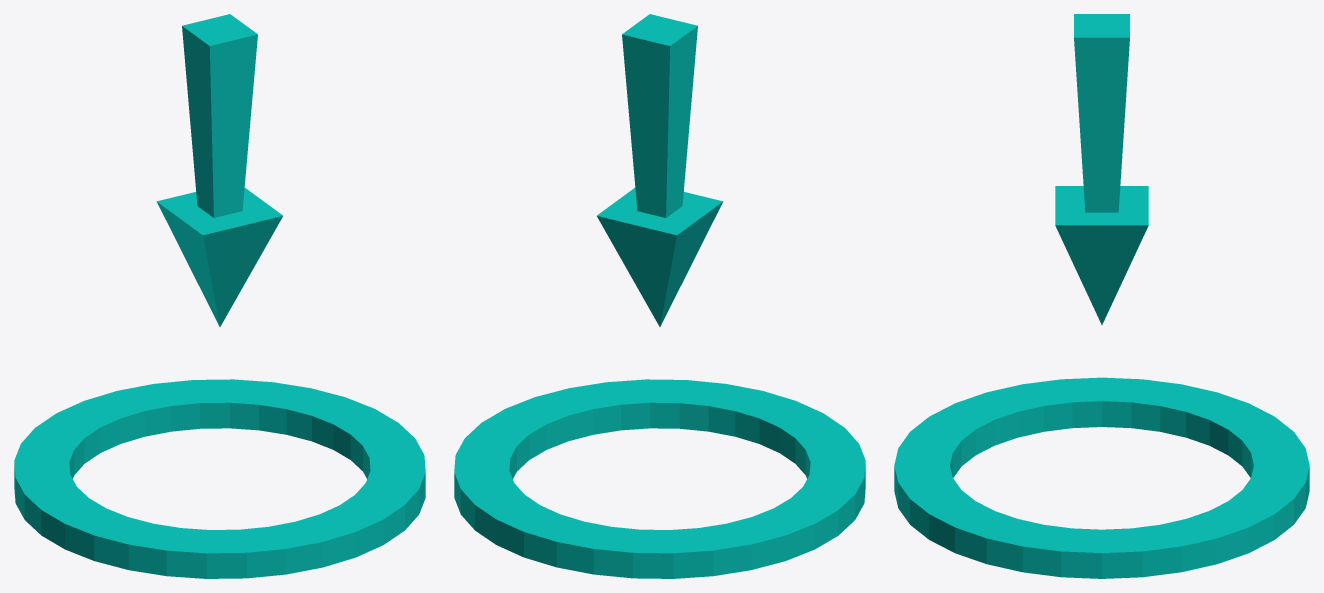
Rendered from teleport.obj.
3 views of the same model, side by side, from view 1: azimuth 30°, elevation 25°; view 2: azimuth 150°, elevation 25°; view 3: azimuth 270°, elevation 25° (orthographic).
Visible parts, largest first — view 1: Cone; view 2: Cone; view 3: Cone.
Part boxes in pixels (x1,y1,x2,y2): Cone: (14, 14, 425, 578); Cone: (454, 14, 865, 578); Cone: (894, 14, 1309, 578).
Bounding box in the file's own units: 0.352 × 0.4351 × 0.352.
